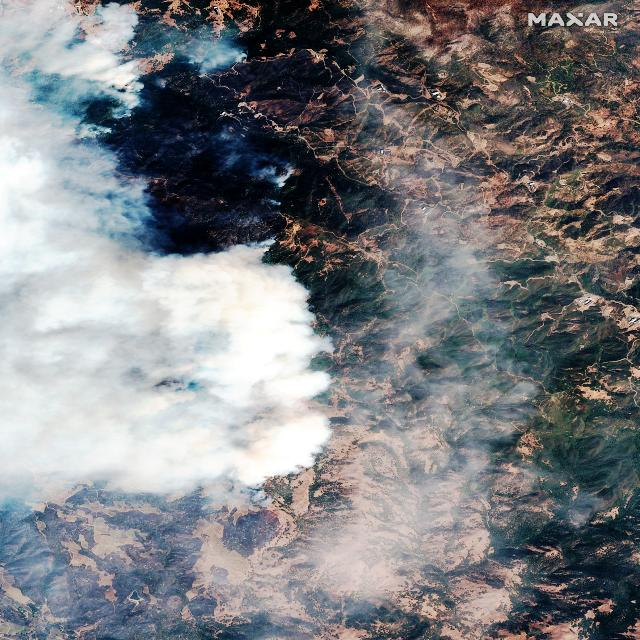asap: (1, 1, 344, 504)
